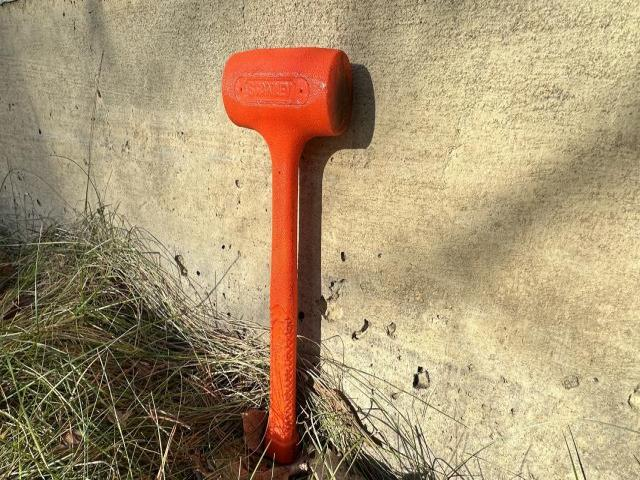hammer: (221, 47, 353, 458)
